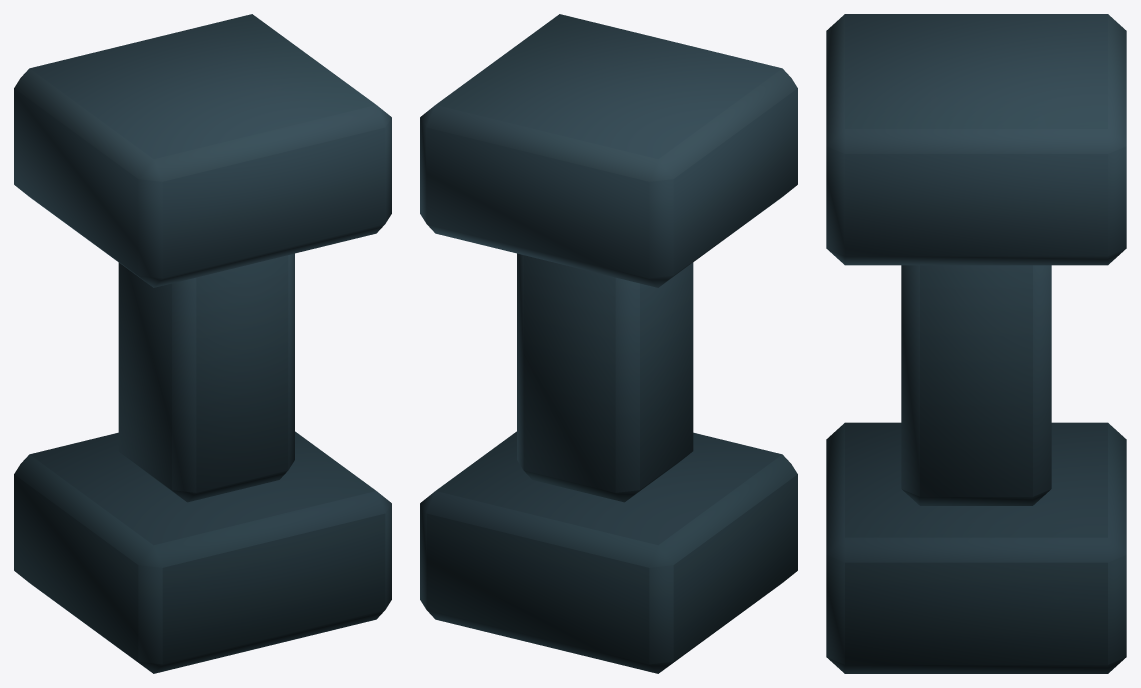
File: fence_01_half_hue_4.fbx
3 renders of one model, left to right at view 1: azimuth 30°, elevation 25°; view 2: azimuth 150°, elevation 25°; view 3: azimuth 270°, elevation 25°, orthographic. The views are drawn at different scales.
Parts seen in each view (by area): view 1: fence_01_half_hue_4; view 2: fence_01_half_hue_4; view 3: fence_01_half_hue_4.
Boxes of the visible parts, <box> form: fence_01_half_hue_4: <box>14,14,391,673</box>; fence_01_half_hue_4: <box>420,14,797,673</box>; fence_01_half_hue_4: <box>826,14,1126,673</box>.
Bounding box in the file's own units: 51.56 × 100 × 50.
